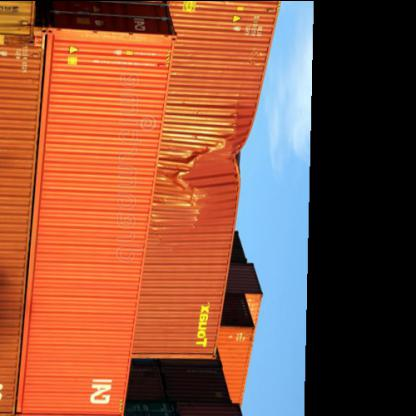Damage: (171, 138, 253, 216)
